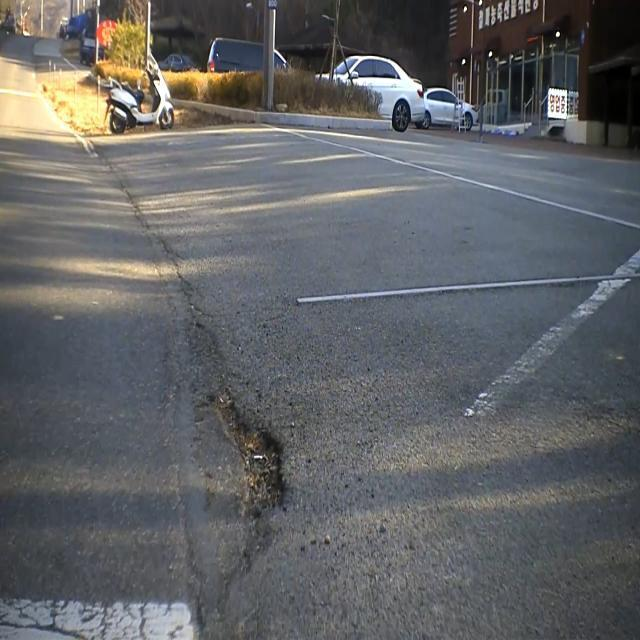Buraco: (186, 379, 297, 602)
